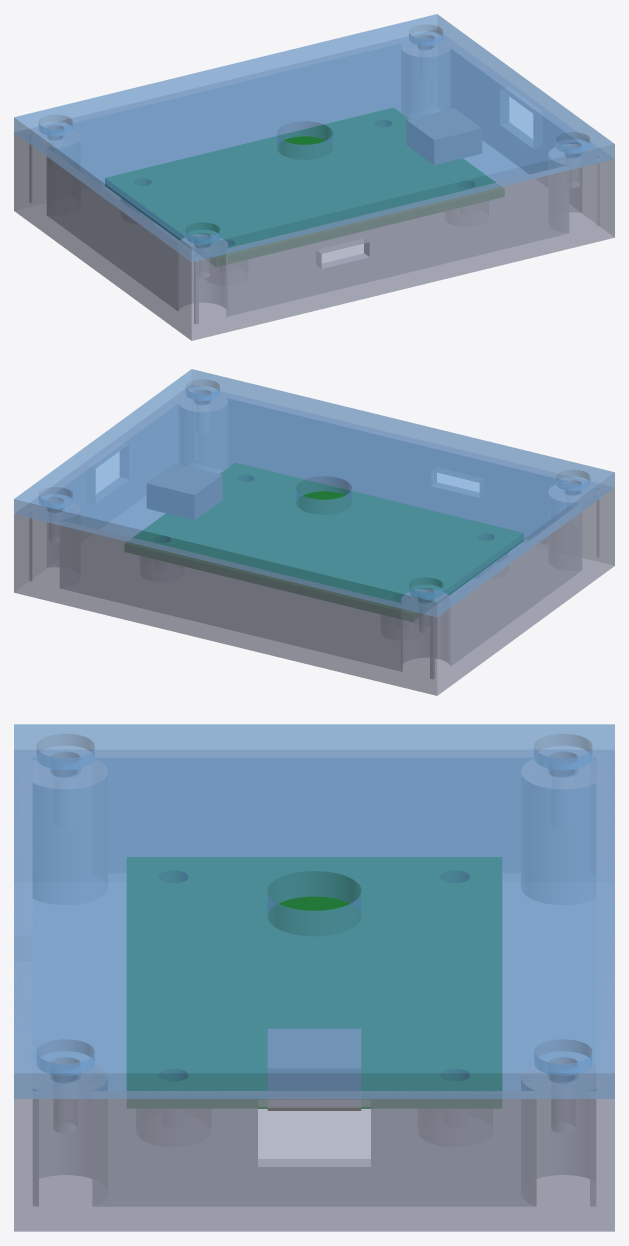
The model's file is review.glb.
The picture shows the model from 3 angles, top to bottom: view 1: azimuth 30°, elevation 25°; view 2: azimuth 150°, elevation 25°; view 3: azimuth 270°, elevation 25°; orthographic projection. The views are drawn at different scales.
Visible parts, largest first — view 1: base, lid, input_solid_0, input_solid_1; view 2: base, lid, input_solid_0, input_solid_1; view 3: lid, base, input_solid_0, input_solid_1.
Boxes of the visible parts, x1,y1,x2,y2 form: base: (14,29,614,340); lid: (14,14,614,262); input_solid_0: (105,108,503,266); input_solid_1: (406,108,481,164); base: (14,384,614,695); lid: (14,369,614,617); input_solid_0: (125,463,523,621); input_solid_1: (147,463,222,519); lid: (14,724,614,1098); base: (14,750,614,1231); input_solid_0: (127,857,501,1108); input_solid_1: (267,1029,361,1110).
Size of the model in its own units: 0.088 by 0.0186 by 0.064.
